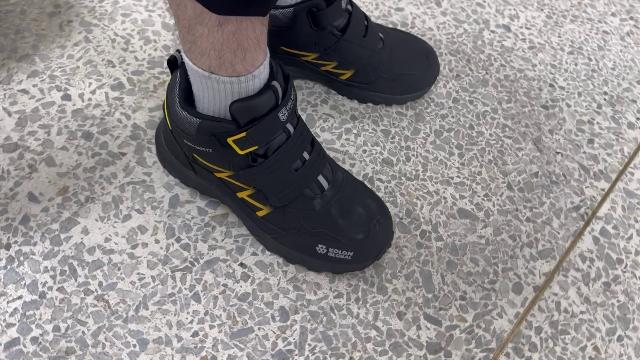shoe_worn: (150, 57, 414, 268), (240, 0, 444, 114)
